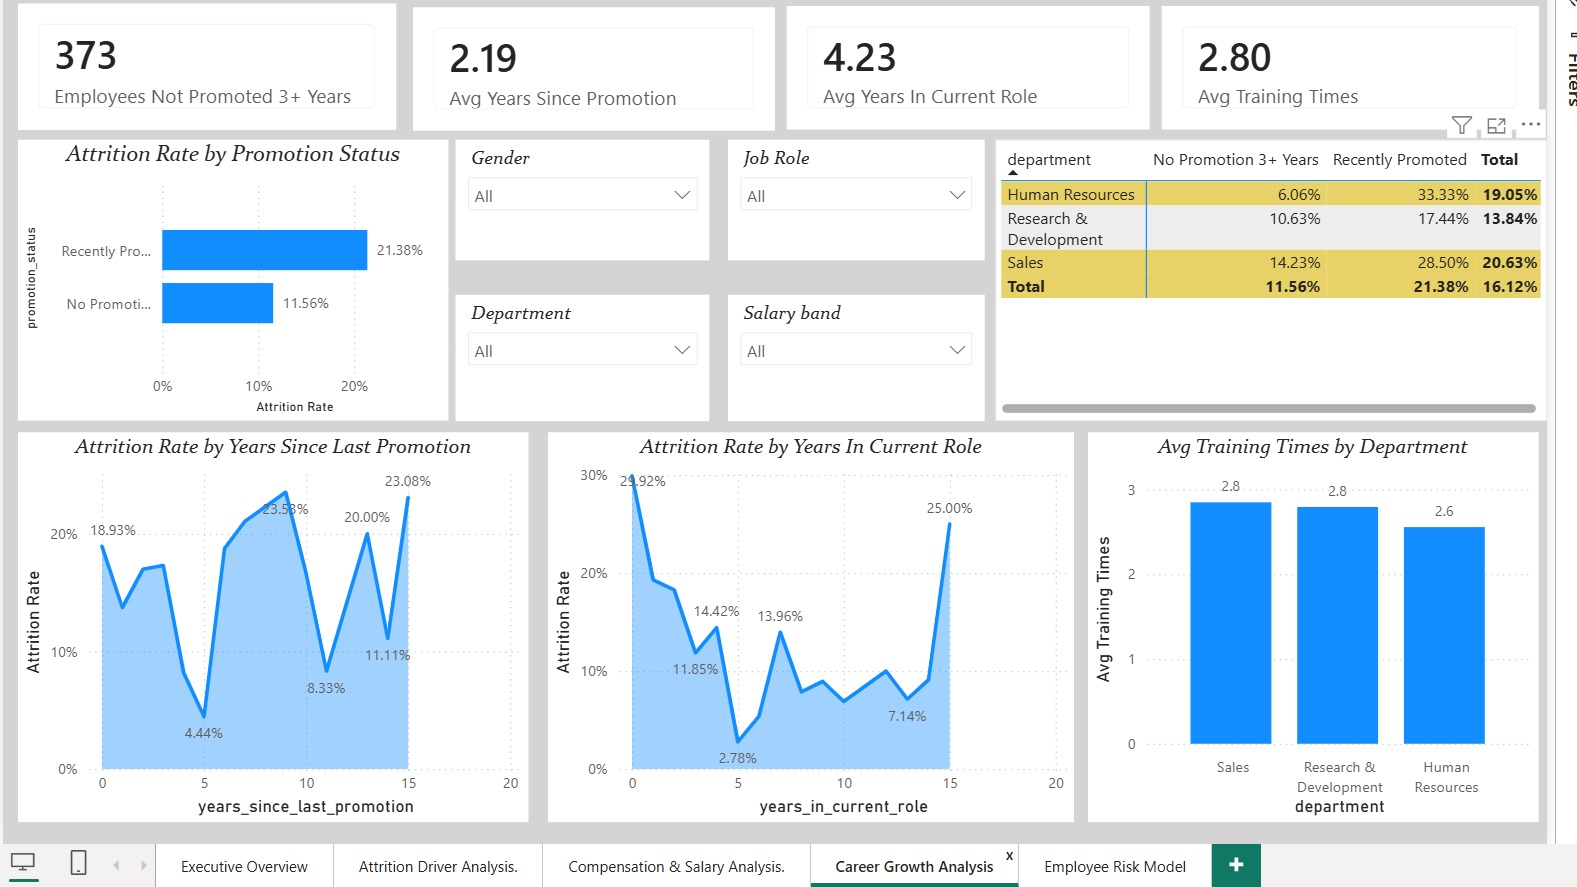

The dashboard page shown, as its layout file describes it:
{"tool":"powerbi","page":{"name":"Career Growth Analysis","canvas":[1280,720],"ordinal":3},"visuals":[{"type":"cardVisual","fields":{"Data":["public employees.Employees Not Promoted 3+ Years"]},"box":[12.8,23.3,314,104.7],"z":0},{"type":"cardVisual","fields":{"Data":["public employees.Avg Years Since Promotion"]},"box":[339.5,25.6,300,102.3],"z":1000},{"type":"cardVisual","fields":{"Data":["public employees.Avg Years In Current Role"]},"box":[650,24.4,301.2,102.3],"z":2000},{"type":"cardVisual","fields":{"Data":["public employees.Avg Training Times"]},"box":[960.5,24.4,312.8,102.3],"z":3000},{"type":"clusteredBarChart","title":"Attrition Rate by Promotion Status","fields":{"Category":["public employees.promotion_status"],"Y":["public employees.Attrition Rate"]},"box":[12.8,136,357,232.6],"z":4000},{"type":"lineChart","title":"Attrition Rate by Years Since Last Promotion","fields":{"Y":["public employees.Attrition Rate"],"Category":["public employees.years_since_last_promotion"]},"box":[12.8,377.9,423.3,323.3],"z":5000},{"type":"lineChart","title":"Attrition Rate by Years In Current Role","fields":{"Category":["public employees.years_in_current_role"],"Y":["public employees.Attrition Rate"]},"box":[452.3,377.9,436,323.3],"z":6000},{"type":"clusteredColumnChart","title":"Avg Training Times by Department","fields":{"Category":["public employees.department"],"Y":["public employees.Avg Training Times"]},"box":[900,377.9,373.3,323.3],"z":7000},{"type":"pivotTable","fields":{"Rows":["public employees.department"],"Columns":["public employees.promotion_status"],"Values":["public employees.Attrition Rate"]},"box":[823.3,136,457,232.6],"z":8000},{"type":"slicer","fields":{"Values":["public employees.department"]},"box":[375.6,264,210.5,104.7],"z":9000},{"type":"slicer","fields":{"Values":["public employees.gender"]},"box":[375.6,136,210.5,100],"z":10000},{"type":"slicer","fields":{"Values":["public employees.job_role"]},"box":[601.2,136,212.8,100],"z":11000},{"type":"slicer","fields":{"Values":["public employees.salary_band"]},"box":[601.2,264,212.8,104.7],"z":12000}]}

Visuals, with their boxes on the page's 1280x720 design canvas (x1, y1, x2, y2). These are canvas units, not pixel positions in the 1577x887 screenshot, which may show the page scaled, cropped or inside an application window:
cardVisual - public employees.Employees Not Promoted 3+ Years: left=13, top=23, right=327, bottom=128
cardVisual - public employees.Avg Years Since Promotion: left=340, top=26, right=640, bottom=128
cardVisual - public employees.Avg Years In Current Role: left=650, top=24, right=951, bottom=127
cardVisual - public employees.Avg Training Times: left=960, top=24, right=1273, bottom=127
"Attrition Rate by Promotion Status" clusteredBarChart: left=13, top=136, right=370, bottom=369
"Attrition Rate by Years Since Last Promotion" lineChart: left=13, top=378, right=436, bottom=701
"Attrition Rate by Years In Current Role" lineChart: left=452, top=378, right=888, bottom=701
"Avg Training Times by Department" clusteredColumnChart: left=900, top=378, right=1273, bottom=701
pivotTable - public employees.department x public employees.promotion_status: left=823, top=136, right=1280, bottom=369
slicer - public employees.department: left=376, top=264, right=586, bottom=369
slicer - public employees.gender: left=376, top=136, right=586, bottom=236
slicer - public employees.job_role: left=601, top=136, right=814, bottom=236
slicer - public employees.salary_band: left=601, top=264, right=814, bottom=369
